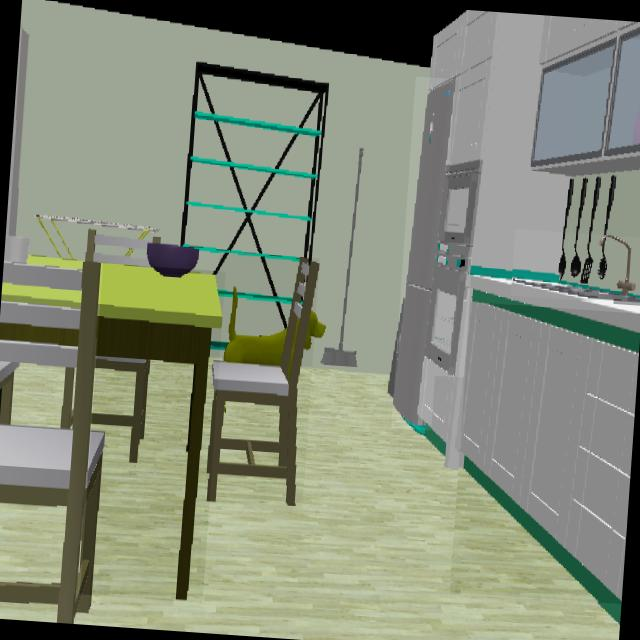cabinet: (427, 9, 633, 276), (459, 302, 638, 603)
chair: (0, 262, 105, 623), (206, 257, 319, 507)
fridge: (393, 79, 455, 429)
microwave: (440, 160, 482, 249)
oven: (424, 241, 472, 376)
sink: (511, 235, 640, 303)
table: (96, 263, 221, 601)
